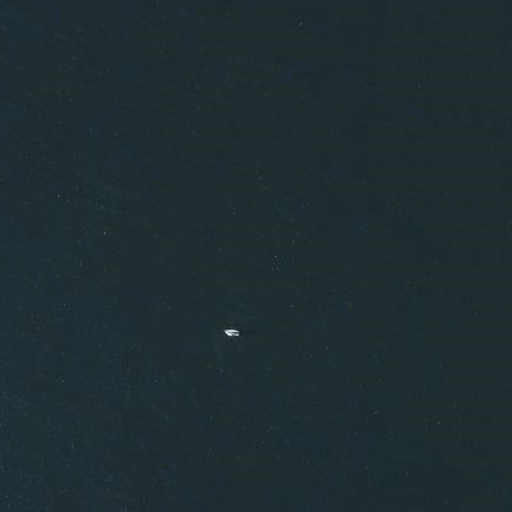ship: (222, 325, 243, 341)
